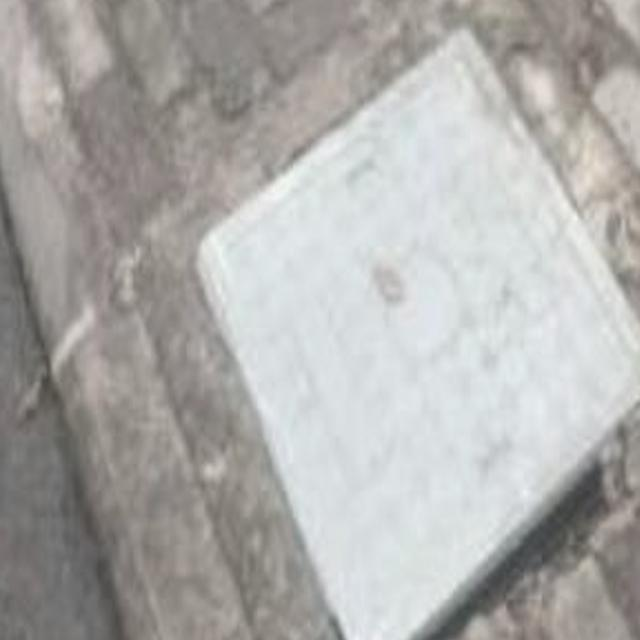good: (185, 0, 640, 640)
